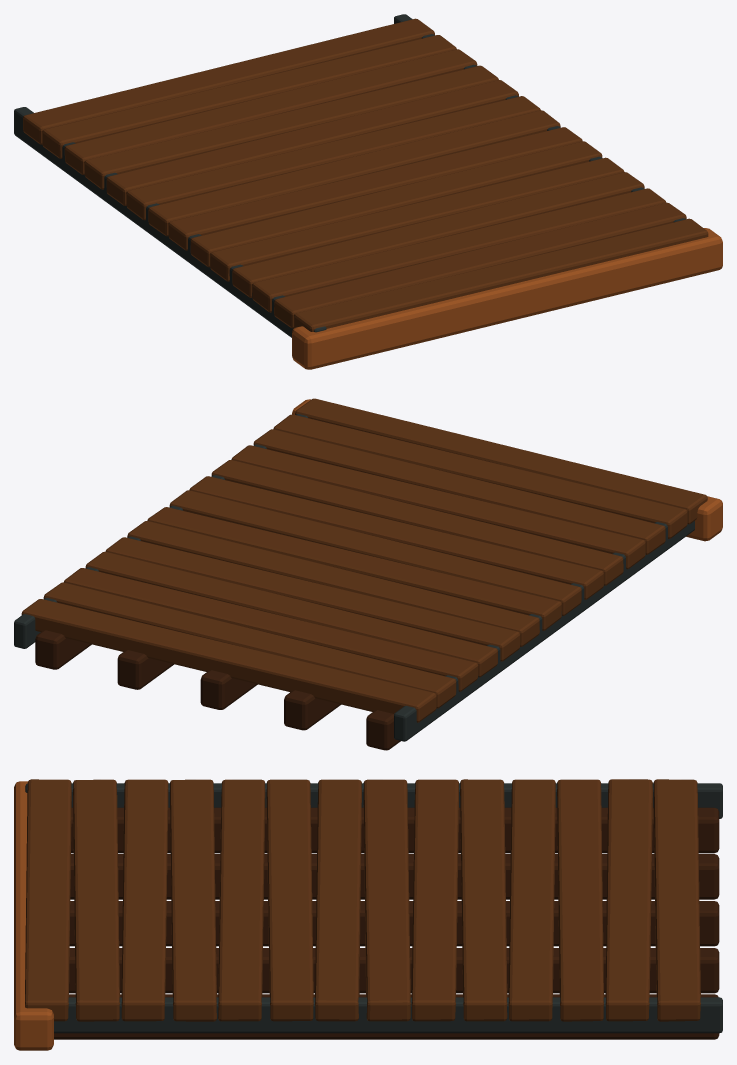
File: drawbridge_deck.glb
3 renders of one model, top to bottom at view 1: azimuth 30°, elevation 25°; view 2: azimuth 150°, elevation 25°; view 3: azimuth 270°, elevation 25°, orthographic. The views are drawn at different scales.
Visible parts, largest first — view 1: DrawbridgeBronzeRamEdge, DrawbridgeCrossPlank.013, DrawbridgeCrossPlank.006, DrawbridgeCrossPlank.003, DrawbridgeCrossPlank.001, DrawbridgeCrossPlank.002, DrawbridgeCrossPlank.005, DrawbridgeCrossPlank.011, DrawbridgeCrossPlank.009, DrawbridgeCrossPlank.008, DrawbridgeCrossPlank.010, DrawbridgeCrossPlank.012 (+4 smaller); view 2: DrawbridgeCrossPlank, DrawbridgeCrossPlank.007, DrawbridgeCrossPlank.004, DrawbridgeCrossPlank.012, DrawbridgeCrossPlank.010, DrawbridgeCrossPlank.001, DrawbridgeCrossPlank.003, DrawbridgeCrossPlank.005, DrawbridgeCrossPlank.011, DrawbridgeCrossPlank.009, DrawbridgeCrossPlank.002, DrawbridgeCrossPlank.008 (+10 smaller); view 3: DrawbridgeIronEdge.001, DrawbridgeCrossPlank.001, DrawbridgeCrossPlank.006, DrawbridgeCrossPlank, DrawbridgeCrossPlank.005, DrawbridgeCrossPlank.004, DrawbridgeCrossPlank.002, DrawbridgeCrossPlank.003, DrawbridgeCrossPlank.007, DrawbridgeCrossPlank.012, DrawbridgeCrossPlank.009, DrawbridgeCrossPlank.008 (+10 smaller).
Part boxes in pixels (left/top/right/bottom): DrawbridgeBronzeRamEdge: left=292, top=228, right=722, bottom=369; DrawbridgeCrossPlank.013: left=294, top=218, right=708, bottom=331; DrawbridgeCrossPlank.006: left=148, top=110, right=560, bottom=236; DrawbridgeCrossPlank.003: left=84, top=65, right=498, bottom=189; DrawbridgeCrossPlank.001: left=42, top=35, right=456, bottom=158; DrawbridgeCrossPlank.002: left=64, top=49, right=477, bottom=174; DrawbridgeCrossPlank.005: left=126, top=96, right=540, bottom=220; DrawbridgeCrossPlank.011: left=252, top=188, right=666, bottom=312; DrawbridgeCrossPlank.009: left=210, top=157, right=624, bottom=281; DrawbridgeCrossPlank.008: left=190, top=141, right=602, bottom=267; DrawbridgeCrossPlank.010: left=232, top=172, right=644, bottom=297; DrawbridgeCrossPlank.012: left=274, top=202, right=686, bottom=328; DrawbridgeCrossPlank: left=21, top=599, right=436, bottom=722; DrawbridgeCrossPlank.007: left=169, top=490, right=581, bottom=615; DrawbridgeCrossPlank.004: left=105, top=537, right=520, bottom=661; DrawbridgeCrossPlank.012: left=273, top=414, right=687, bottom=538; DrawbridgeCrossPlank.010: left=231, top=445, right=645, bottom=569; DrawbridgeCrossPlank.001: left=43, top=582, right=456, bottom=708; DrawbridgeCrossPlank.003: left=85, top=551, right=497, bottom=677; DrawbridgeCrossPlank.005: left=127, top=521, right=539, bottom=646; DrawbridgeCrossPlank.011: left=253, top=429, right=665, bottom=554; DrawbridgeCrossPlank.009: left=211, top=460, right=623, bottom=585; DrawbridgeCrossPlank.002: left=64, top=568, right=478, bottom=691; DrawbridgeCrossPlank.008: left=189, top=476, right=603, bottom=599; DrawbridgeIronEdge.001: left=54, top=997, right=722, bottom=1033; DrawbridgeCrossPlank.001: left=605, top=779, right=652, bottom=1021; DrawbridgeCrossPlank.006: left=363, top=779, right=410, bottom=1021; DrawbridgeCrossPlank: left=653, top=779, right=700, bottom=1021; DrawbridgeCrossPlank.005: left=411, top=779, right=458, bottom=1021; DrawbridgeCrossPlank.004: left=460, top=779, right=507, bottom=1021; DrawbridgeCrossPlank.002: left=557, top=779, right=603, bottom=1021; DrawbridgeCrossPlank.003: left=508, top=779, right=555, bottom=1021; DrawbridgeCrossPlank.007: left=315, top=779, right=361, bottom=1021; DrawbridgeCrossPlank.012: left=73, top=779, right=119, bottom=1021; DrawbridgeCrossPlank.009: left=218, top=779, right=265, bottom=1021; DrawbridgeCrossPlank.008: left=266, top=779, right=313, bottom=1021.
Bounding box in the file's own units: 3.92 × 0.4029 × 4.98.
